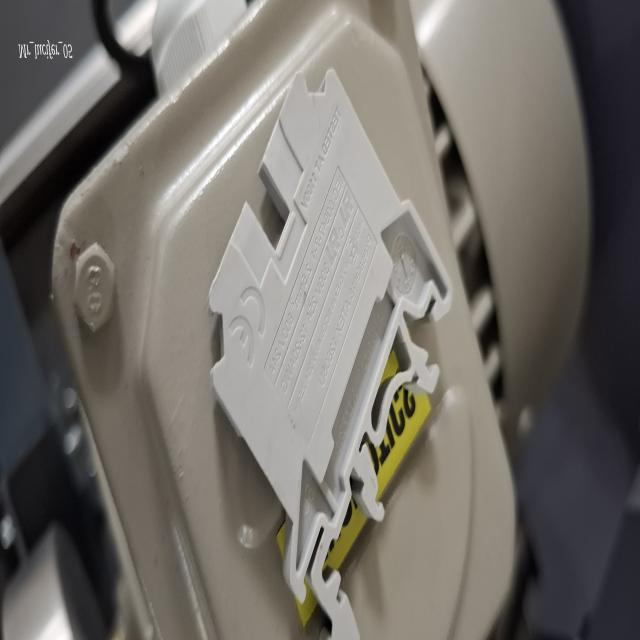Inverted: (200, 67, 454, 640)
